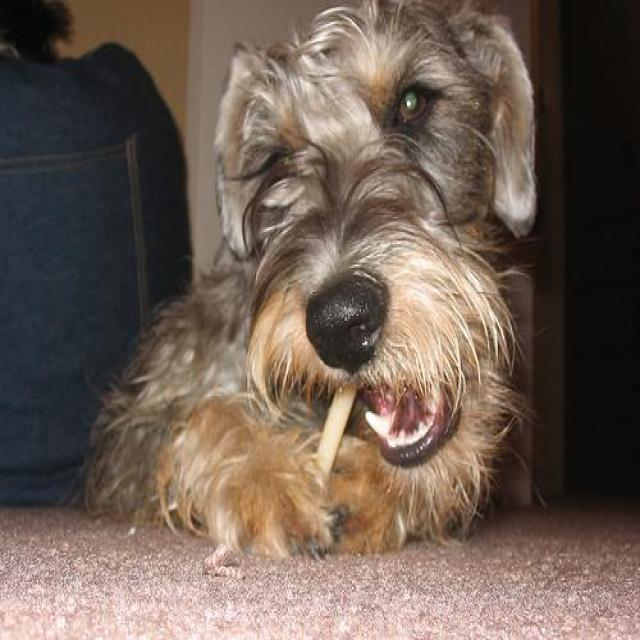standard_schnauzer: (98, 0, 540, 568)
